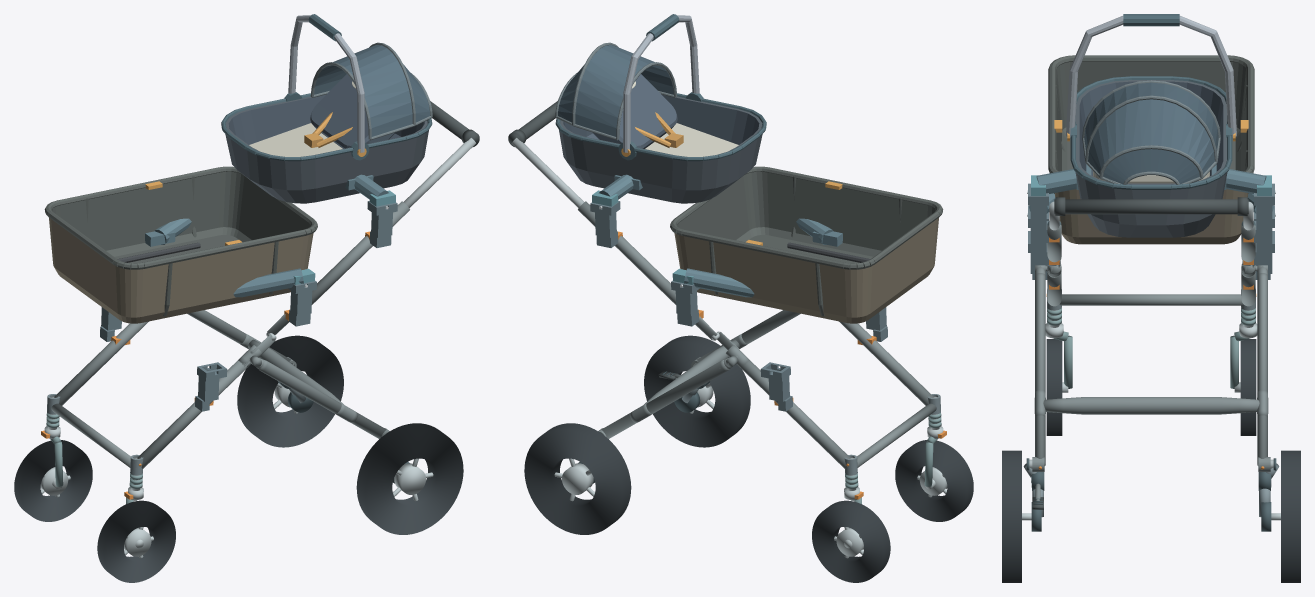
Rendered from D16_w550_state1_wheel_M.glb.
3 renders of one model, left to right at view 1: azimuth 30°, elevation 25°; view 2: azimuth 150°, elevation 25°; view 3: azimuth 270°, elevation 25°, orthographic. The views are drawn at different scales.
Parts seen in each view (by area): view 1: D16_Lower, D16_Upper, RL_tire.002, RR_tire.002, FL_tire.002, FR_tire.002, D16_Lower_Mount_M, V46_rear_leg_-1.003, main_lower_-1.003, main_lower_1.003, main_upper_-1.003, Universal_Cabin_Receiver_L_-1 (+9 smaller); view 2: D16_Lower, D16_Upper, RR_tire.002, RL_tire.002, FR_tire.002, FL_tire.002, D16_Lower_Mount_M, V46_rear_leg_1.003, main_lower_1.003, main_lower_-1.003, main_upper_1.003, Universal_Cabin_Receiver_L_1 (+9 smaller); view 3: D16_Upper, D16_Lower, V46_rearbar.003, round_handle.002, RL_tire.002, RR_tire.002, front_fixed_round_tube.002, D16_Upper_Mount_H, V46_rear_leg_1.003, V46_rear_leg_-1.003, FL_tire.002, FR_tire.002 (+10 smaller).
Boxes of the visible parts, left/top/right/bottom form: D16_Lower: left=44, top=166, right=317, bottom=323; D16_Upper: left=221, top=14, right=432, bottom=203; RL_tire.002: left=356, top=423, right=463, bottom=534; RR_tire.002: left=237, top=335, right=343, bottom=447; FL_tire.002: left=97, top=500, right=175, bottom=582; FR_tire.002: left=14, top=440, right=92, bottom=521; D16_Lower_Mount_M: left=145, top=218, right=315, bottom=297; V46_rear_leg_-1.003: left=258, top=360, right=386, bottom=438; main_lower_-1.003: left=137, top=360, right=249, bottom=468; main_lower_1.003: left=54, top=321, right=148, bottom=405; main_upper_-1.003: left=311, top=201, right=409, bottom=304; Universal_Cabin_Receiver_L_-1: left=195, top=362, right=227, bottom=411; D16_Lower: left=670, top=166, right=943, bottom=323; D16_Upper: left=555, top=14, right=766, bottom=203; RR_tire.002: left=524, top=423, right=631, bottom=534; RL_tire.002: left=644, top=335, right=750, bottom=447; FR_tire.002: left=812, top=500, right=890, bottom=582; FL_tire.002: left=895, top=440, right=973, bottom=521; D16_Lower_Mount_M: left=672, top=218, right=842, bottom=297; V46_rear_leg_1.003: left=601, top=360, right=729, bottom=438; main_lower_1.003: left=738, top=360, right=850, bottom=468; main_lower_-1.003: left=839, top=321, right=933, bottom=405; main_upper_1.003: left=578, top=201, right=676, bottom=304; Universal_Cabin_Receiver_L_1: left=760, top=362, right=792, bottom=411; D16_Upper: left=1066, top=14, right=1236, bottom=237; D16_Lower: left=1048, top=55, right=1254, bottom=244; V46_rearbar.003: left=1043, top=397, right=1259, bottom=414; round_handle.002: left=1054, top=199, right=1248, bottom=214; RL_tire.002: left=1002, top=450, right=1021, bottom=582; RR_tire.002: left=1281, top=450, right=1300, bottom=582; front_fixed_round_tube.002: left=1059, top=294, right=1243, bottom=305; D16_Upper_Mount_H: left=1027, top=164, right=1275, bottom=195; V46_rear_leg_1.003: left=1257, top=273, right=1267, bottom=465; V46_rear_leg_-1.003: left=1035, top=273, right=1045, bottom=465; FL_tire.002: left=1046, top=339, right=1062, bottom=435; FR_tire.002: left=1240, top=339, right=1256, bottom=435.
Bounding box in the file's own units: 1.16 × 1.37 × 0.6771.
